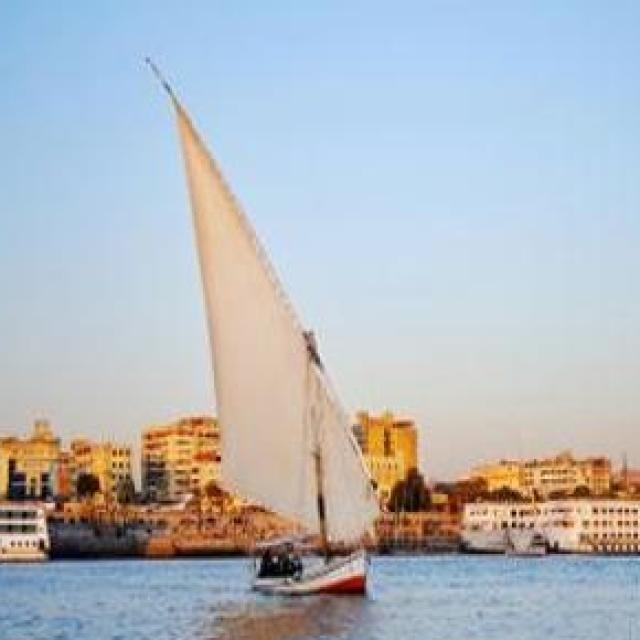sailboat: (148, 58, 384, 600)
